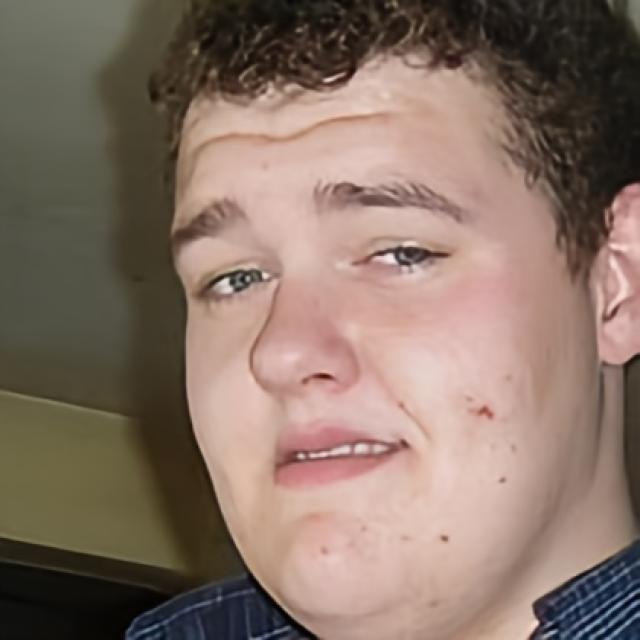disgust: (164, 0, 596, 640)
